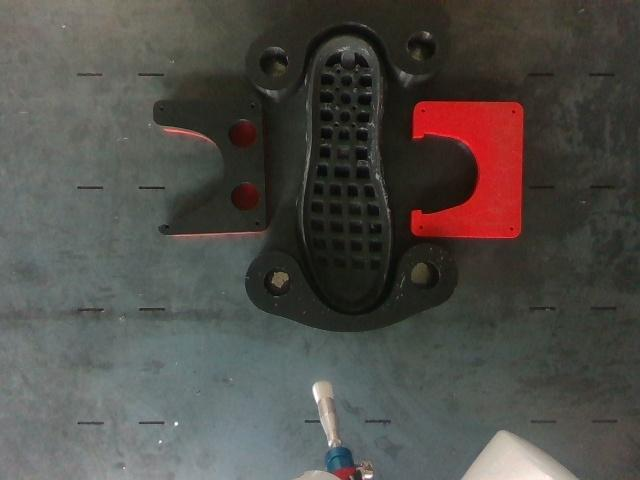shoes: (303, 35, 389, 311)
